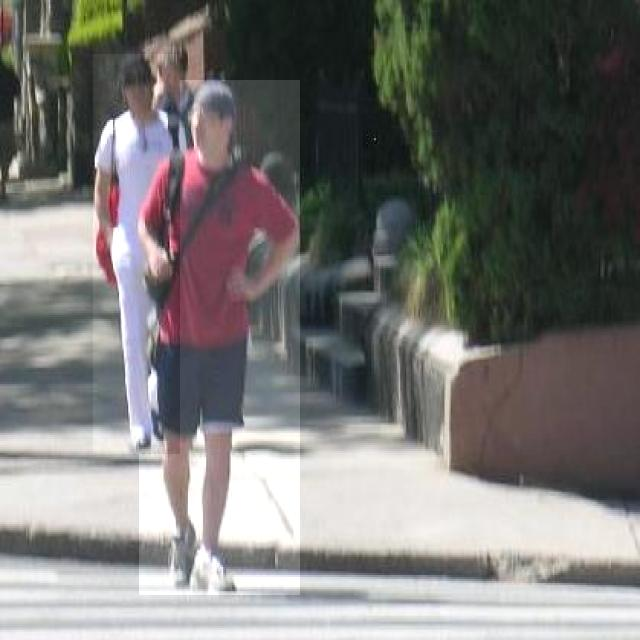with scooter: (139, 80, 300, 595), (93, 54, 180, 454)
